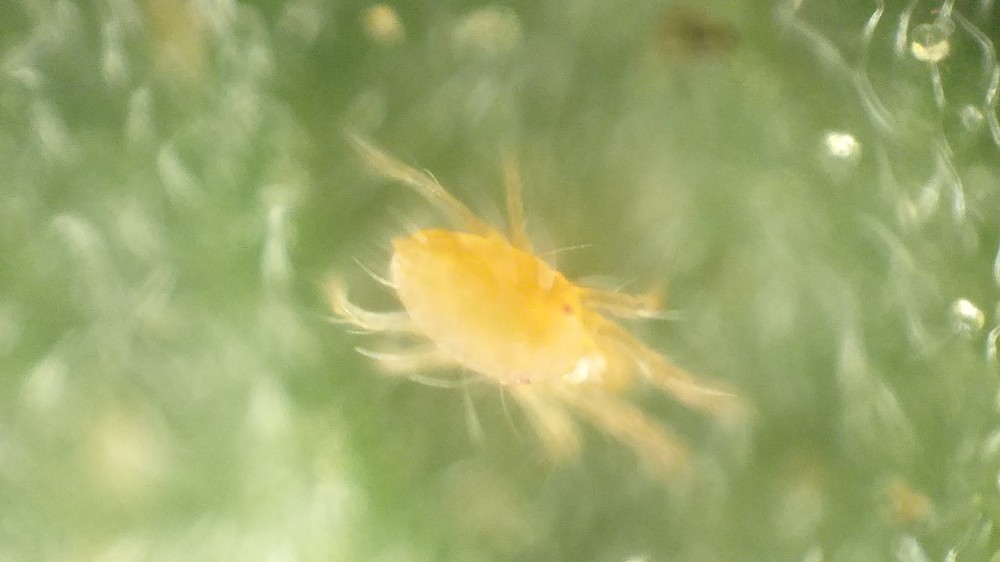Aracnido Rojo: (314, 132, 788, 496)
